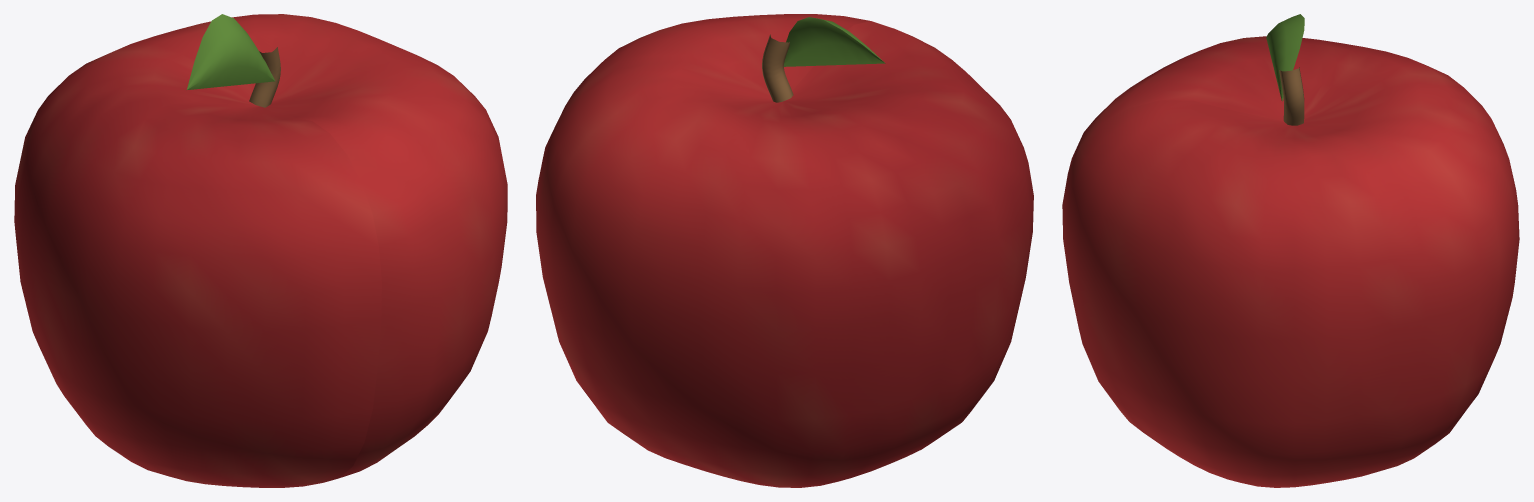
Rendered from apple.glb.
The picture shows the model from 3 angles, left to right: view 1: azimuth 30°, elevation 25°; view 2: azimuth 150°, elevation 25°; view 3: azimuth 270°, elevation 25°; orthographic projection. The views are drawn at different scales.
Visible parts, largest first — view 1: apple; view 2: apple; view 3: apple.
Boxes of the visible parts, x1,y1,x2,y2 form: apple: (14, 14, 507, 487); apple: (536, 14, 1033, 487); apple: (1062, 14, 1519, 487).
Size of the model in its own units: 0.8791 by 0.8496 by 0.855.
